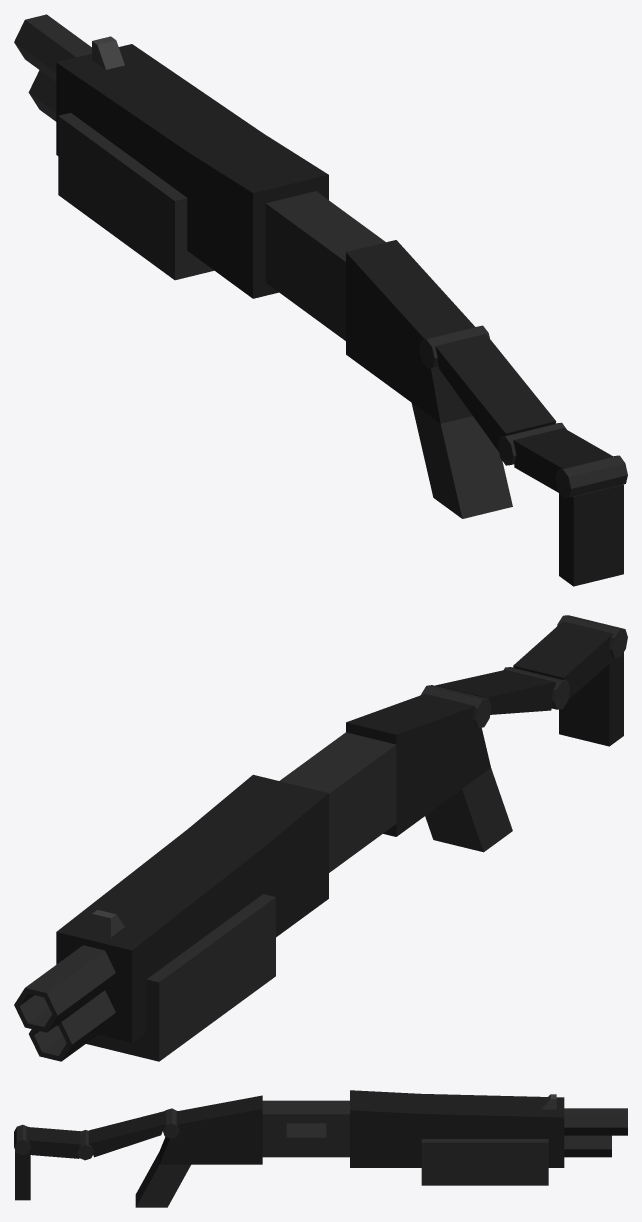
File: Spas.glb
The picture shows the model from 3 angles, top to bottom: view 1: azimuth 30°, elevation 25°; view 2: azimuth 150°, elevation 25°; view 3: azimuth 270°, elevation 25°; orthographic projection. The views are drawn at different scales.
Parts seen in each view (by area): view 1: cuboid (×9), cylinder (×5); view 2: cuboid (×9), cylinder (×5); view 3: cuboid (×10), cylinder (×5).
Boxes of the visible parts, x1,y1,x2,y2 form: cuboid (×9): (56, 36, 623, 586); cylinder (×5): (14, 14, 627, 498); cuboid (×9): (56, 621, 623, 1061); cylinder (×5): (14, 615, 627, 1061); cuboid (×10): (15, 1090, 564, 1207); cylinder (×5): (14, 1108, 627, 1160).
Bounding box in the file's own units: 0.5 × 0.9062 × 4.83.
Materials: 1 (1 with a texture image).
